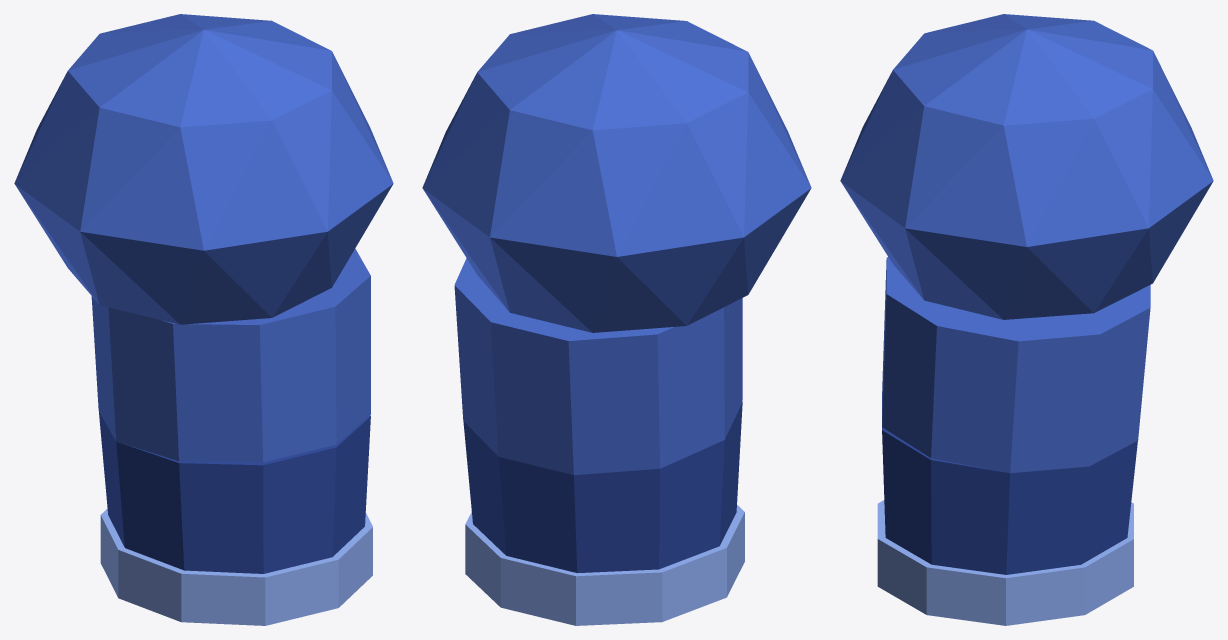
File: gear_mithril_chainbody_arm_r.glb
3 views of the same model, side by side, from view 1: azimuth 30°, elevation 25°; view 2: azimuth 150°, elevation 25°; view 3: azimuth 270°, elevation 25° (orthographic). The views are drawn at different scales.
Parts seen in each view (by area): view 1: gear_mithril_chainbody_arm_r; view 2: gear_mithril_chainbody_arm_r; view 3: gear_mithril_chainbody_arm_r.
Boxes of the visible parts, left/top/right/bottom form: gear_mithril_chainbody_arm_r: left=14, top=14, right=393, bottom=625; gear_mithril_chainbody_arm_r: left=422, top=14, right=811, bottom=625; gear_mithril_chainbody_arm_r: left=840, top=14, right=1213, bottom=625.
Size of the model in its own units: 0.1746 by 0.277 by 0.1773.
